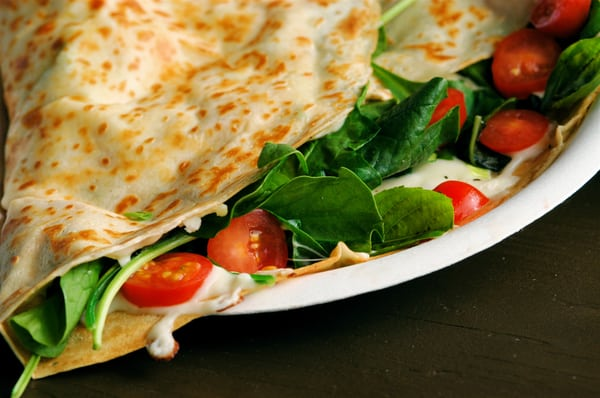soup: (0, 0, 380, 302)
